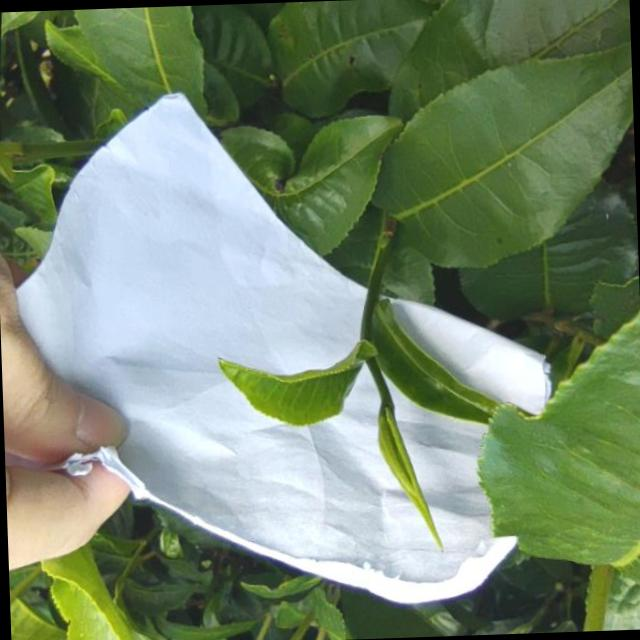Stem: (358, 300, 376, 340)
